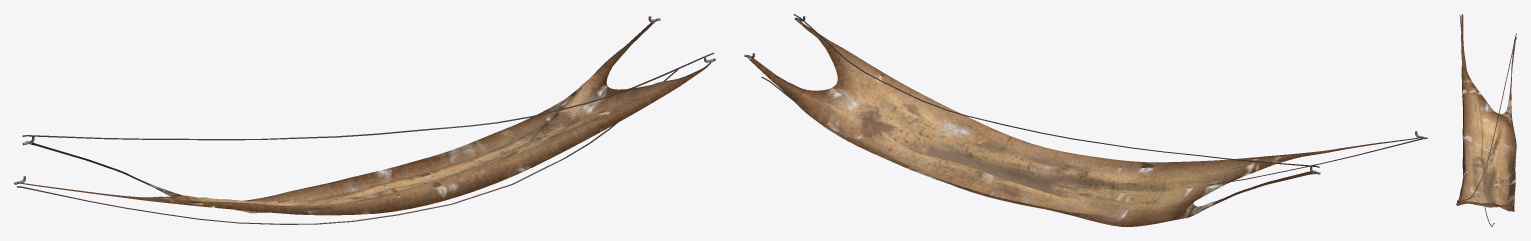
The model's file is xi_dsp_awning_02.gltf.
The picture shows the model from 3 angles, left to right: view 1: azimuth 30°, elevation 25°; view 2: azimuth 150°, elevation 25°; view 3: azimuth 270°, elevation 25°; orthographic projection. The views are drawn at different scales.
Visible parts, largest first — view 1: xi_dsp_awning_02; view 2: xi_dsp_awning_02; view 3: xi_dsp_awning_02.
Boxes of the visible parts, x1,y1,x2,y2 form: xi_dsp_awning_02: [14, 16, 715, 224]; xi_dsp_awning_02: [744, 14, 1427, 226]; xi_dsp_awning_02: [1456, 14, 1516, 226].
Size of the model in its own units: 14.47 by 3.05 by 2.19.
1 material, 1 textured.
